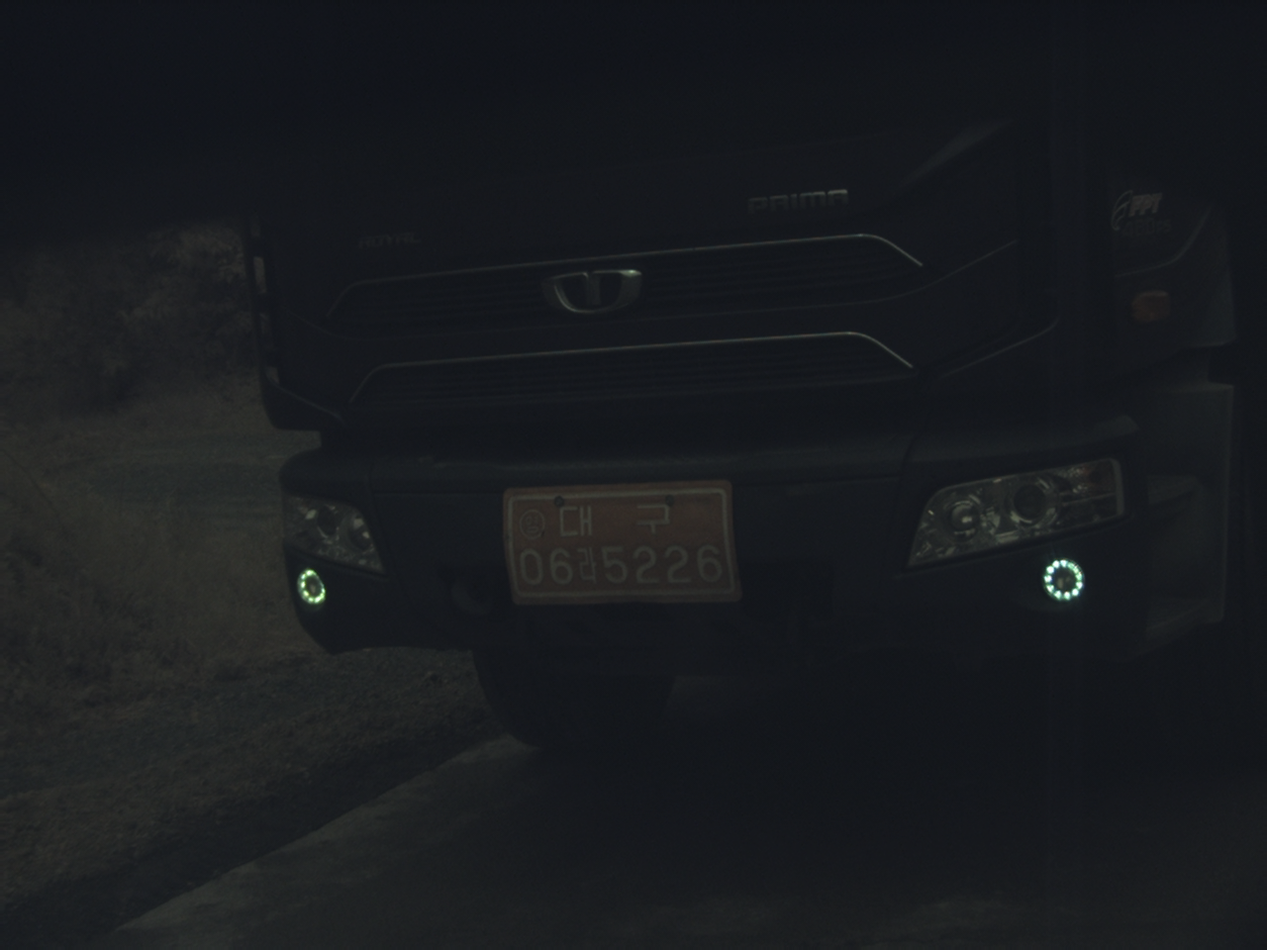license_plate: (505, 481, 740, 603)
truck: (245, 6, 1260, 748)
